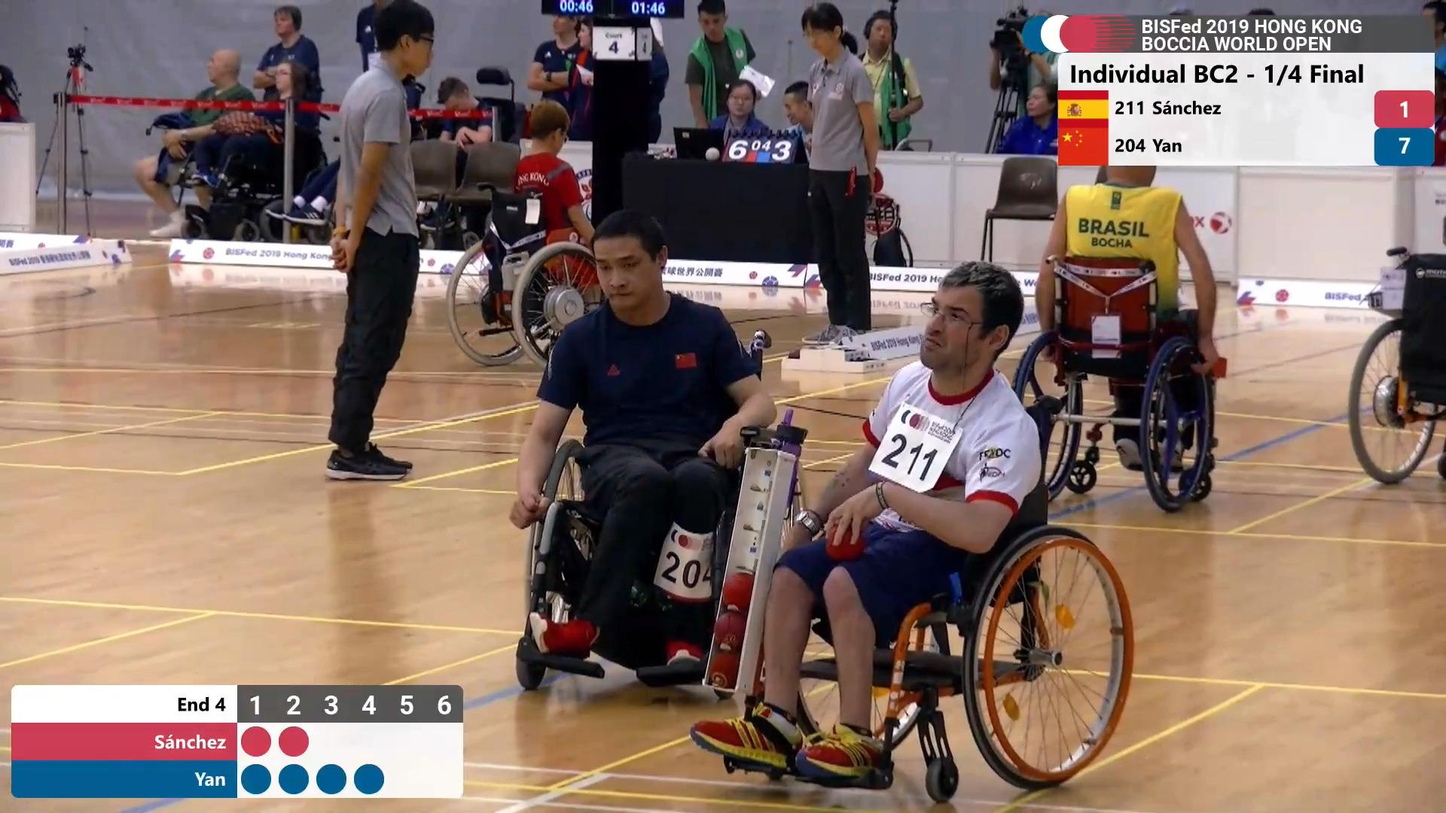red_ball: (710, 610, 752, 651), (719, 571, 758, 613), (706, 648, 744, 690)
